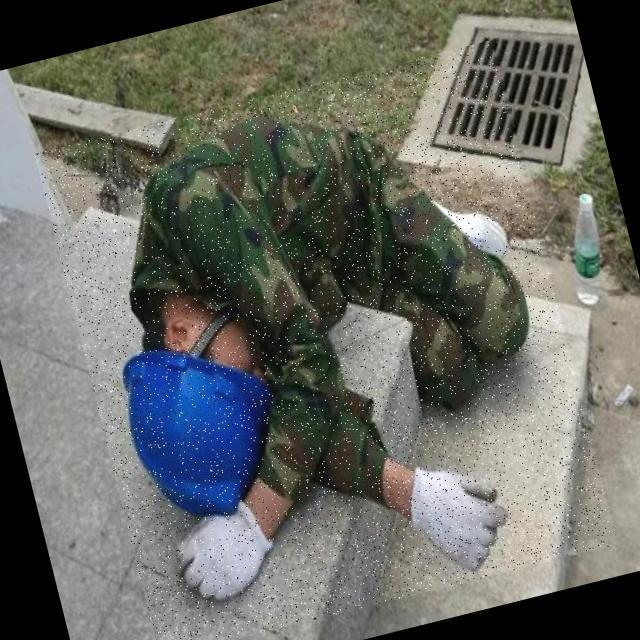Gloves: (165, 504, 288, 612), (403, 472, 525, 568)
Helmet: (100, 354, 263, 529)
Person: (94, 38, 558, 633)
Safety Boot: (423, 167, 523, 278)
no-vest: (114, 109, 412, 317)
